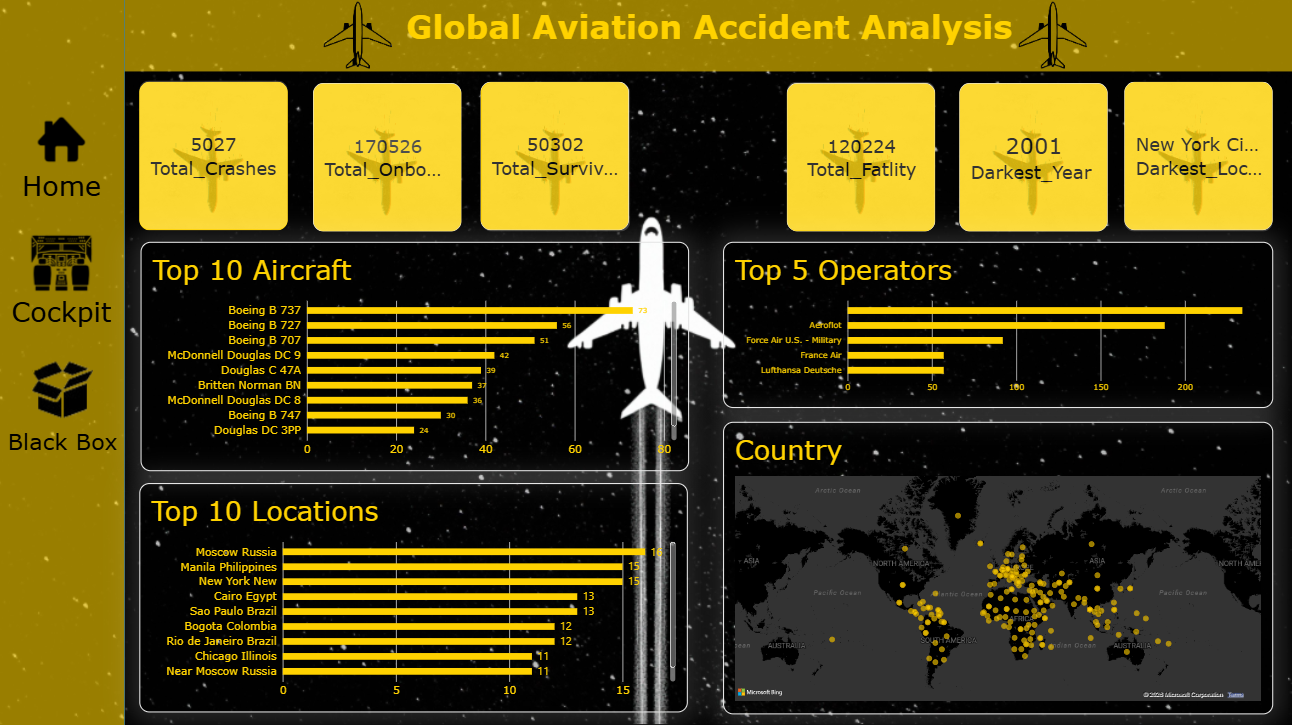

The dashboard page shown, as its layout file describes it:
{"tool":"powerbi","page":{"name":"Overview","canvas":[1920,1080],"ordinal":0},"visuals":[{"type":"textbox","box":[186.4,0,1733.7,108.6],"z":0},{"type":"cardVisual","fields":{"Data":["Air_Crash_Data.Total_Crashes"]},"box":[209.9,123.5,220,220],"z":1000},{"type":"cardVisual","fields":{"Data":["Air_Crash_Data.Total_Fatlity"]},"box":[1169.1,125.6,220,220],"z":2000},{"type":"cardVisual","fields":{"Data":["Air_Crash_Data.Total_Onboard"]},"box":[467.2,125.6,220,220],"z":3000},{"type":"shape","box":[0,0,188.2,1080.4],"z":4000},{"type":"actionButton","box":[0,156.4,188.2,153.8],"z":5000},{"type":"actionButton","box":[2.1,531,188.2,153.8],"z":6000},{"type":"actionButton","box":[0,341.7,188.2,153.8],"z":7000},{"type":"image","box":[448.8,0,166.5,108.6],"z":8000},{"type":"image","box":[1478.5,0,166.5,108.6],"z":9000},{"type":"barChart","title":"Top 10 Aircraft","fields":{"Category":["Air_Crash_Data.Aircraft"],"Y":["CountNonNull(Air_Crash_Data.Operator)"]},"box":[211.1,361.1,813,340],"z":10000},{"type":"barChart","title":"Top 10 Locations","fields":{"Category":["Air_Crash_Data.Location"],"Y":["CountNonNull(Air_Crash_Data.Aircraft)"]},"box":[209.3,718.5,813,340],"z":11000},{"type":"cardVisual","fields":{"Data":["Air_Crash_Data.Deadliest_Year"]},"box":[1424.4,125.6,220,220],"z":12000},{"type":"cardVisual","fields":{"Data":["Air_Crash_Data.Deadliest_Location"]},"box":[1669.3,123.5,220,220],"z":13000},{"type":"image","box":[209.9,121.4,220,220],"z":14000},{"type":"image","box":[467.2,125.6,220,220],"z":15000},{"type":"image","box":[714.2,123.5,220,220],"z":16000},{"type":"image","box":[1669.3,125.6,220,220],"z":17000},{"type":"image","box":[1169.1,123.5,220,220],"z":18000},{"type":"image","box":[1424.4,125.6,220,220],"z":19000},{"type":"cardVisual","fields":{"Data":["Air_Crash_Data.Total_Survival"]},"box":[714.2,123.5,220,220],"z":20000},{"type":"image","box":[716.7,125.9,220,220],"z":21000},{"type":"map","title":"Country","fields":{"Category":["Air_Crash_Data.Country/Region"]},"box":[1074.1,627.8,814.8,433.3],"z":21001},{"type":"barChart","title":"Top 5 Operators","fields":{"Category":["Air_Crash_Data.Operator"],"Y":["CountNonNull(Air_Crash_Data.Aircraft Manufacturer)"]},"box":[1074.1,361.1,814.8,246.3],"z":21002}]}

Visuals, with their boxes in screenshot pixels (x1, y1, x2, y2), scaled from the page's 1920x1080 canvas onto the 1292x725 screenshot:
textbox: bbox=[125, 0, 1291, 73]
cardVisual - Air_Crash_Data.Total_Crashes: bbox=[141, 83, 289, 231]
cardVisual - Air_Crash_Data.Total_Fatlity: bbox=[787, 84, 935, 232]
cardVisual - Air_Crash_Data.Total_Onboard: bbox=[314, 84, 462, 232]
shape: bbox=[0, 0, 127, 724]
actionButton: bbox=[0, 105, 127, 208]
actionButton: bbox=[1, 356, 128, 460]
actionButton: bbox=[0, 229, 127, 333]
image: bbox=[302, 0, 414, 73]
image: bbox=[995, 0, 1107, 73]
"Top 10 Aircraft" barChart: bbox=[142, 242, 689, 471]
"Top 10 Locations" barChart: bbox=[141, 482, 688, 711]
cardVisual - Air_Crash_Data.Deadliest_Year: bbox=[959, 84, 1107, 232]
cardVisual - Air_Crash_Data.Deadliest_Location: bbox=[1123, 83, 1271, 231]
image: bbox=[141, 81, 289, 229]
image: bbox=[314, 84, 462, 232]
image: bbox=[481, 83, 629, 231]
image: bbox=[1123, 84, 1271, 232]
image: bbox=[787, 83, 935, 231]
image: bbox=[959, 84, 1107, 232]
cardVisual - Air_Crash_Data.Total_Survival: bbox=[481, 83, 629, 231]
image: bbox=[482, 85, 630, 232]
"Country" map: bbox=[723, 421, 1271, 712]
"Top 5 Operators" barChart: bbox=[723, 242, 1271, 408]
